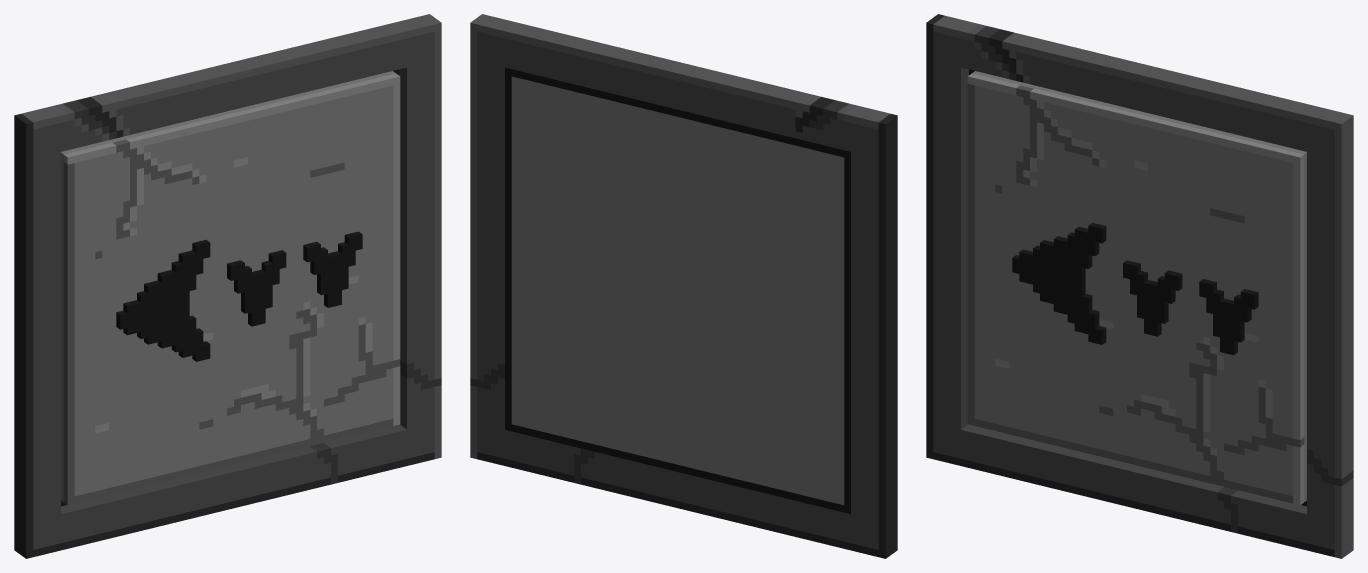
Rendered from balpan_12.obj.
The picture shows the model from 3 angles, left to right: view 1: azimuth 30°, elevation 25°; view 2: azimuth 150°, elevation 25°; view 3: azimuth 330°, elevation 25°; orthographic projection.
Visible parts, largest first — view 1: balpan_12; view 2: balpan_12; view 3: balpan_12.
Boxes of the visible parts, x1=… form: balpan_12: x1=14, y1=14, x2=441, y2=558; balpan_12: x1=470, y1=14, x2=897, y2=558; balpan_12: x1=926, y1=14, x2=1353, y2=558.
Bounding box in the file's own units: 60 × 60 × 4.
1 material, 1 textured.
